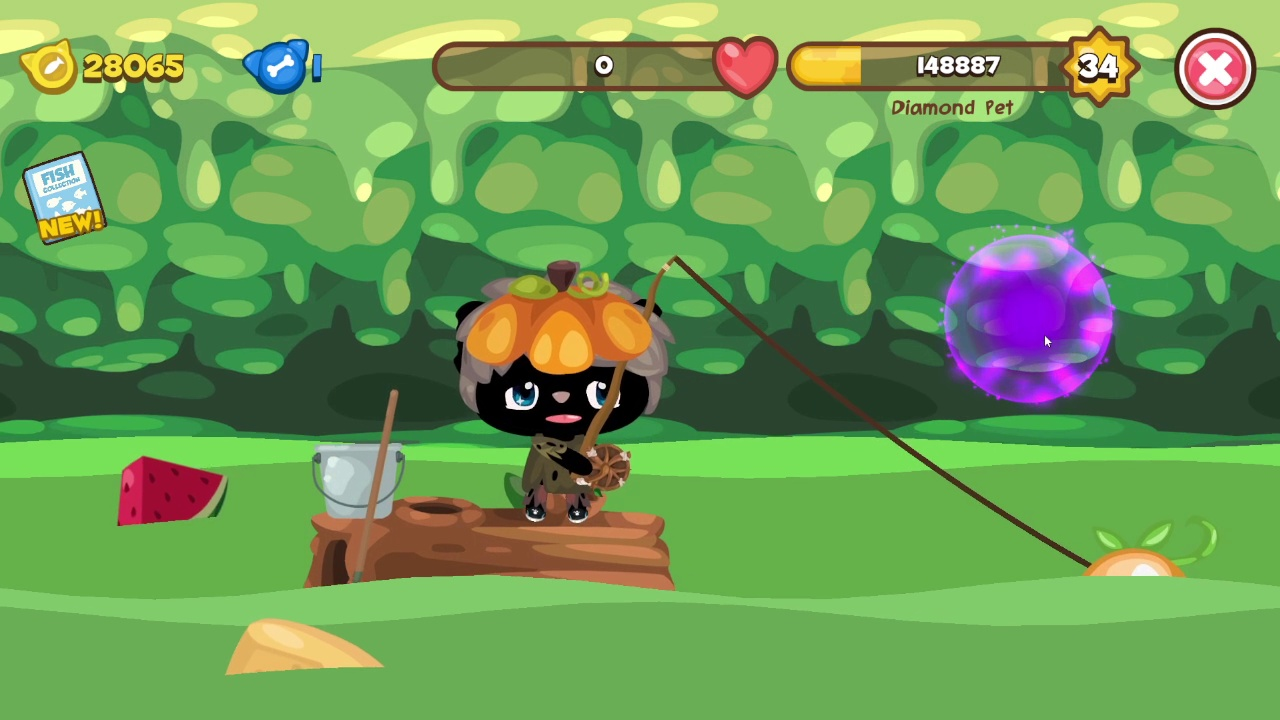point: (942, 233, 1116, 407)
